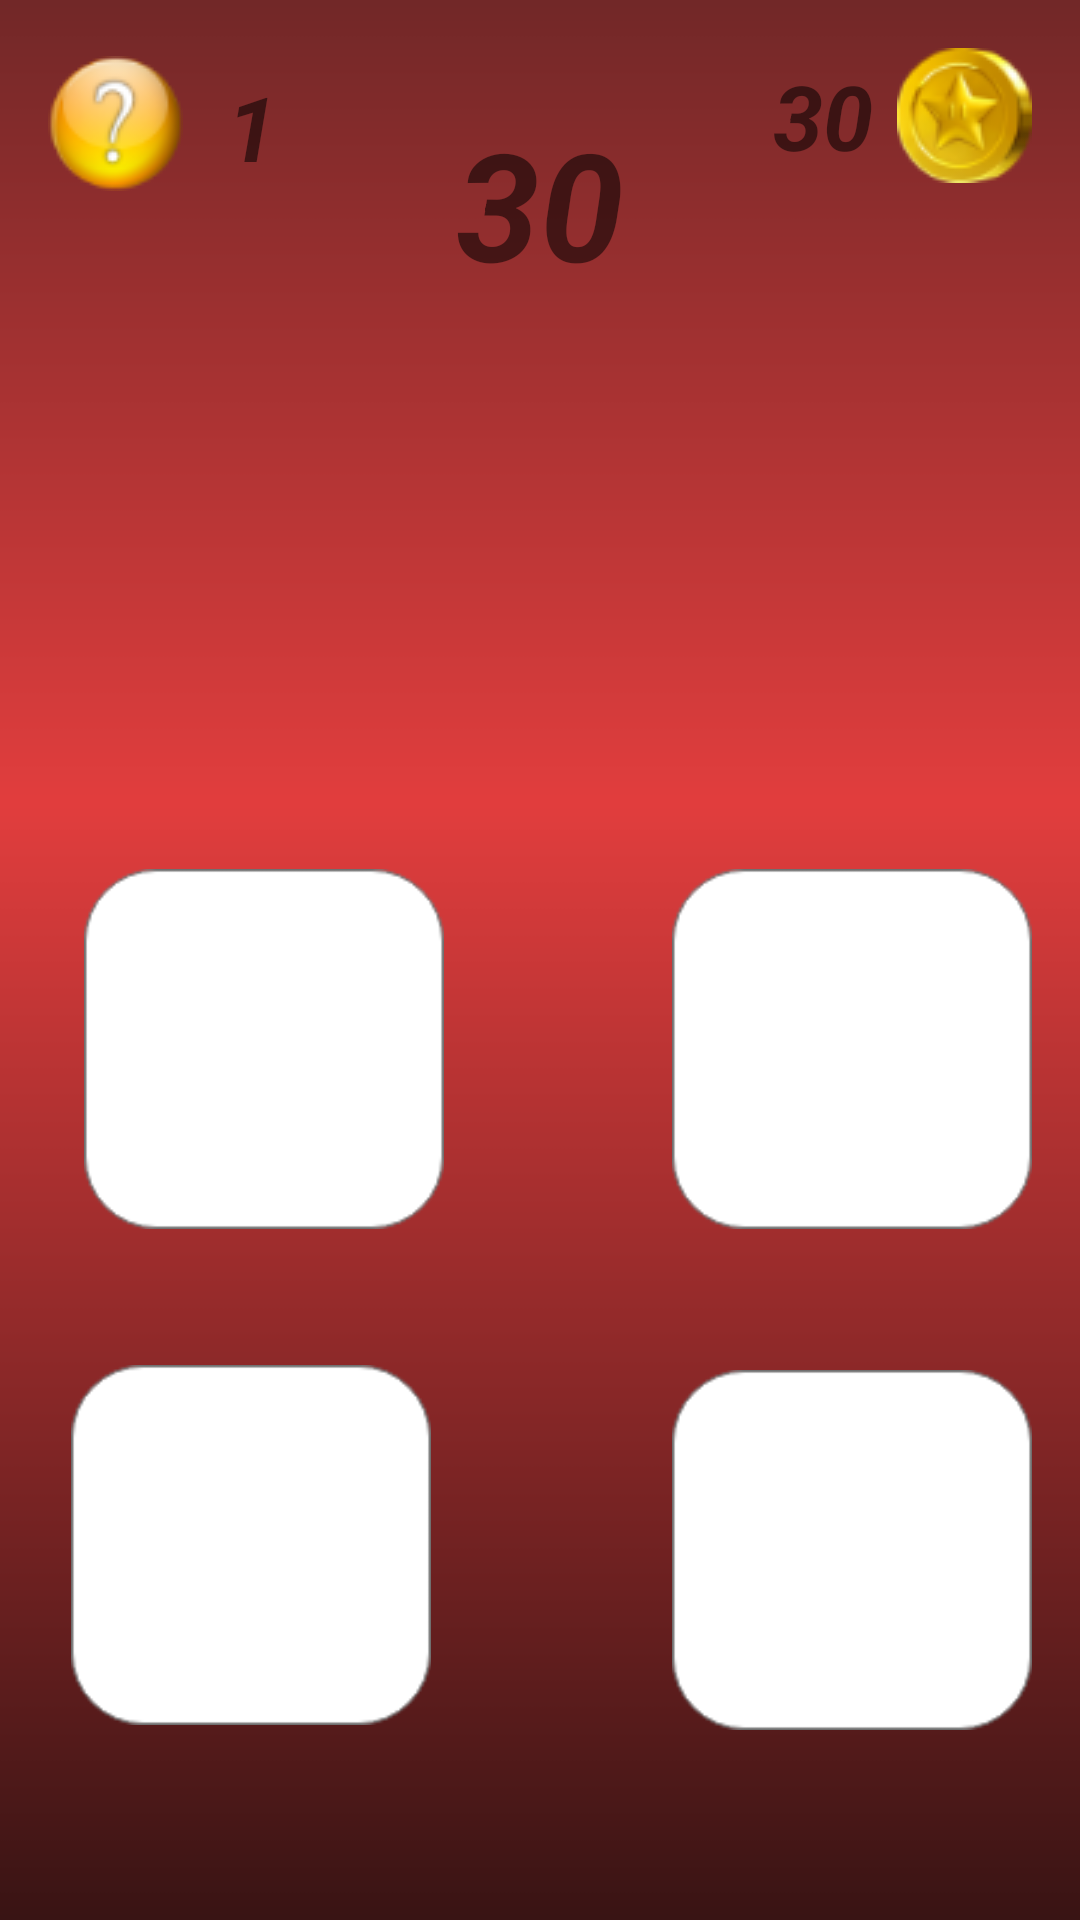

Named icons in this screenshot (1080w x 1920h) and their centers, [x,y]:
coin: [964,115]
soru: [115,123]
